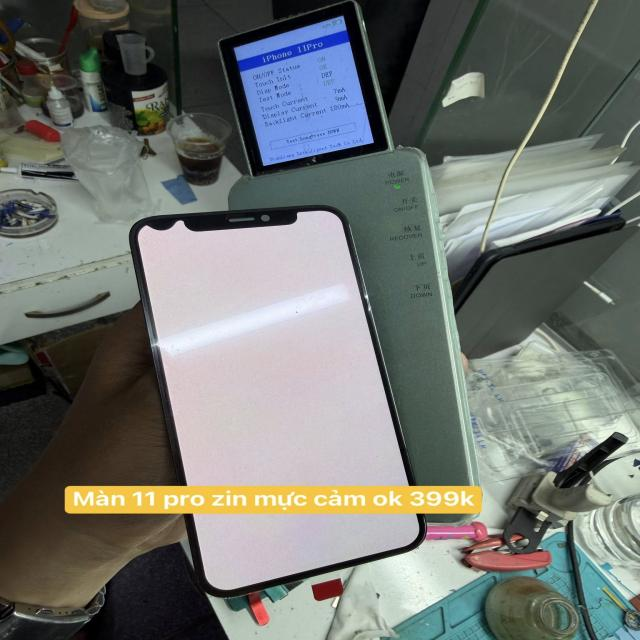gen_11: (128, 207, 430, 598)
